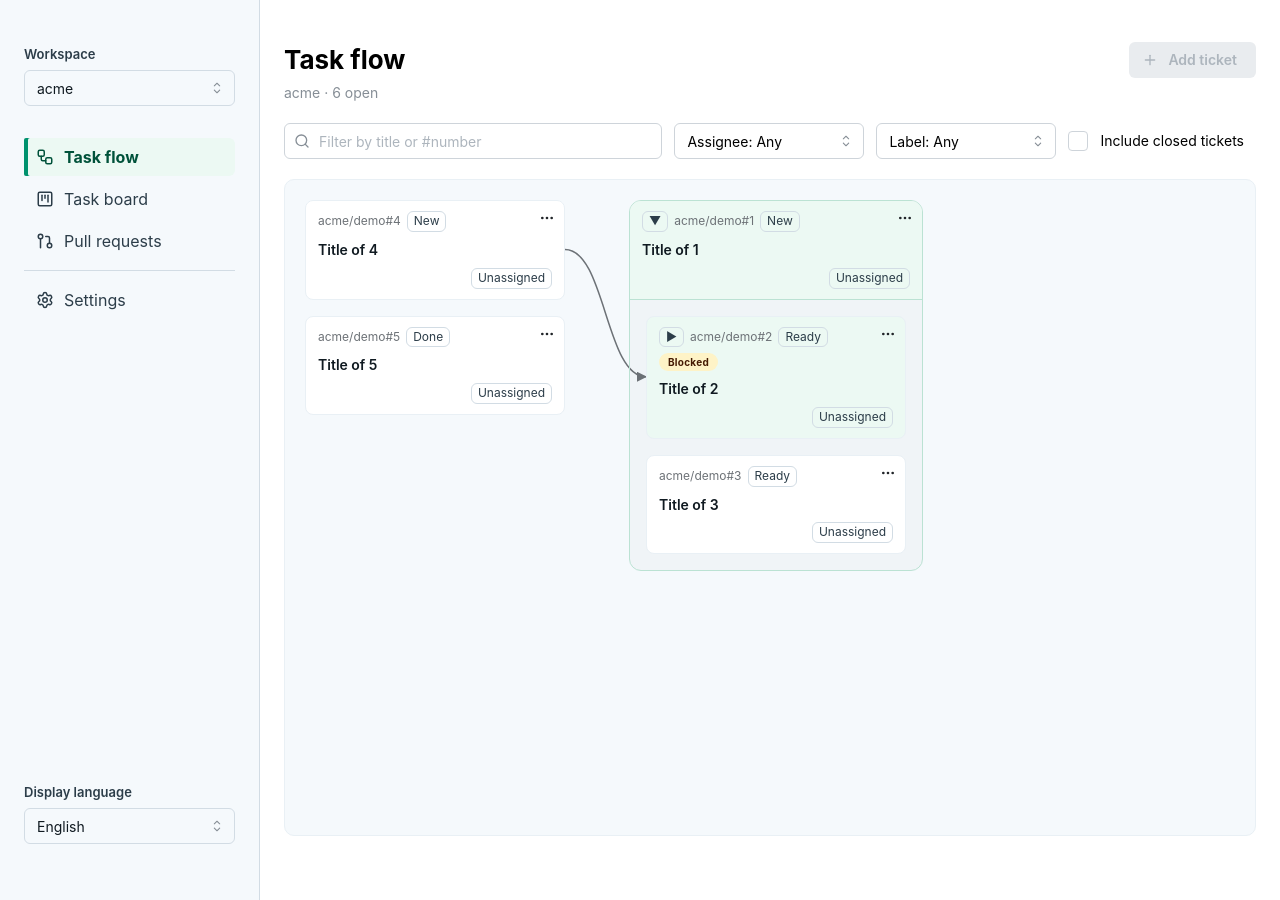
Test case: relations › reveals a matching grandchild, permits folding, and restores saved expansion (true)
Type "Title of 6" into the field named "Text".
click(473, 141); type("Title of 6")  # box [284,123,662,159]
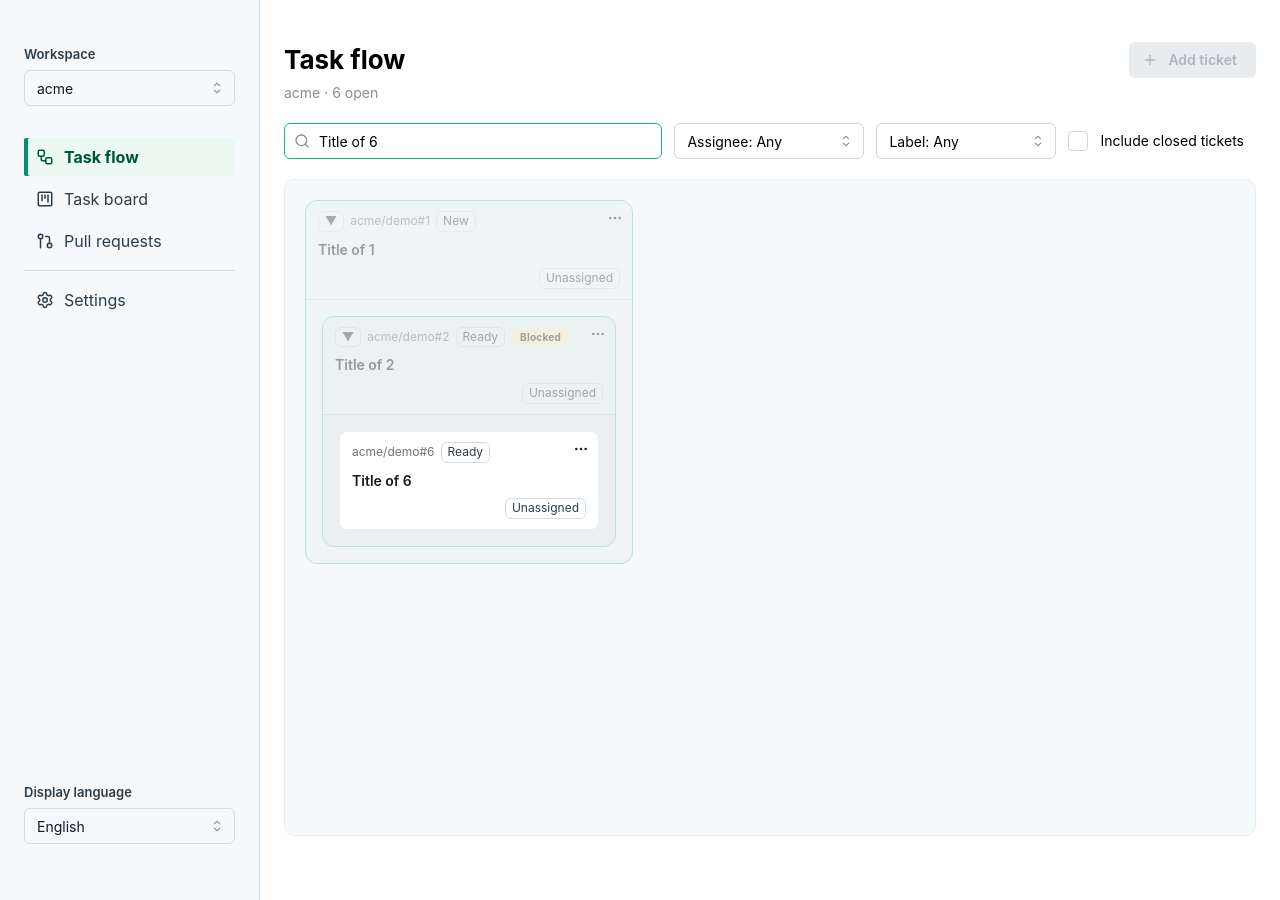
expect the element "▼ acme/demo#1 New Title of 1 Unassigned" has class "dim": met, box [306,201,632,300]
Click the button named "Close child tickets".
click(348, 337)  # box [335,327,361,347]
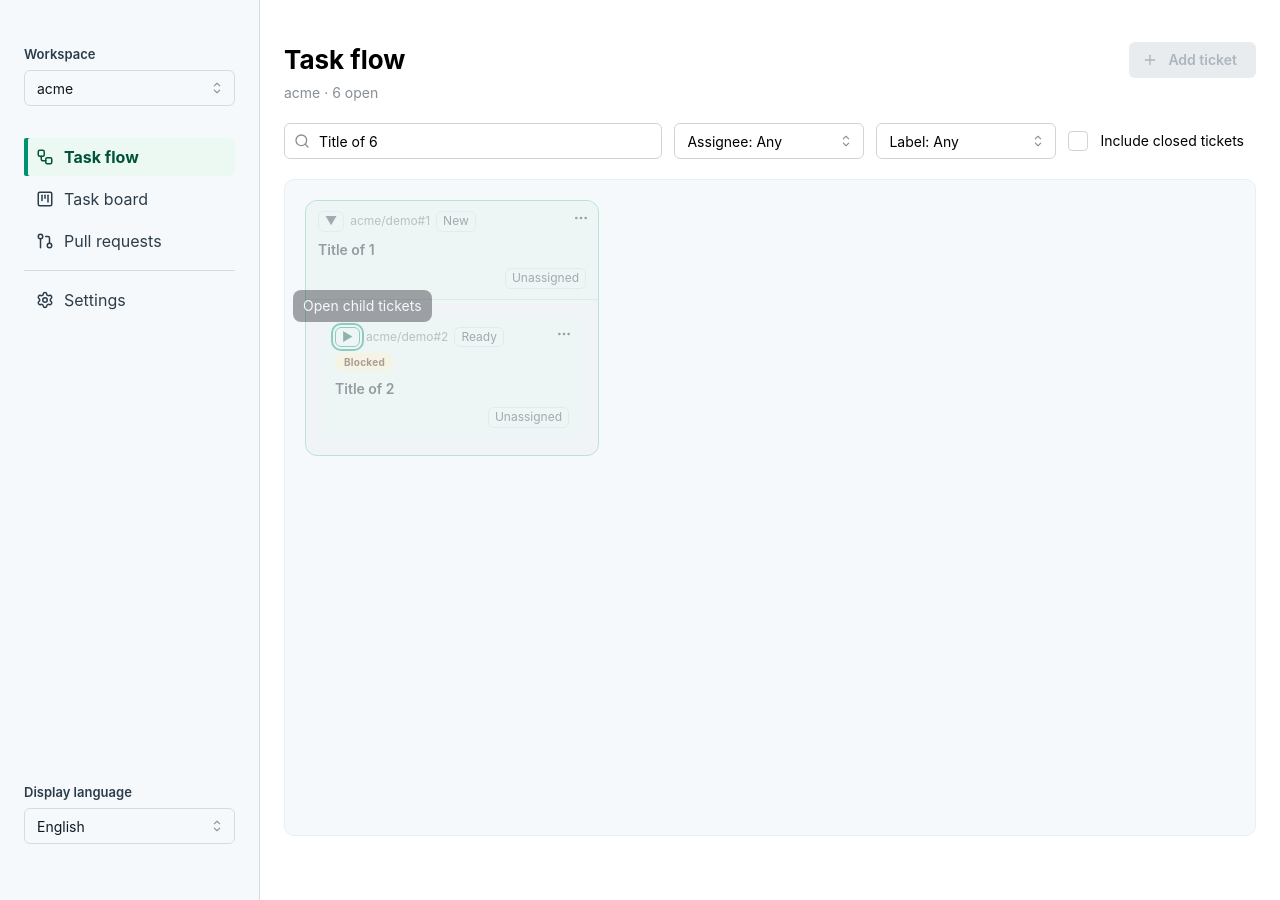
expect the link "acme/demo#6 " is gone: met
Click the button named "Open child tickets".
click(348, 337)  # box [335,327,360,347]
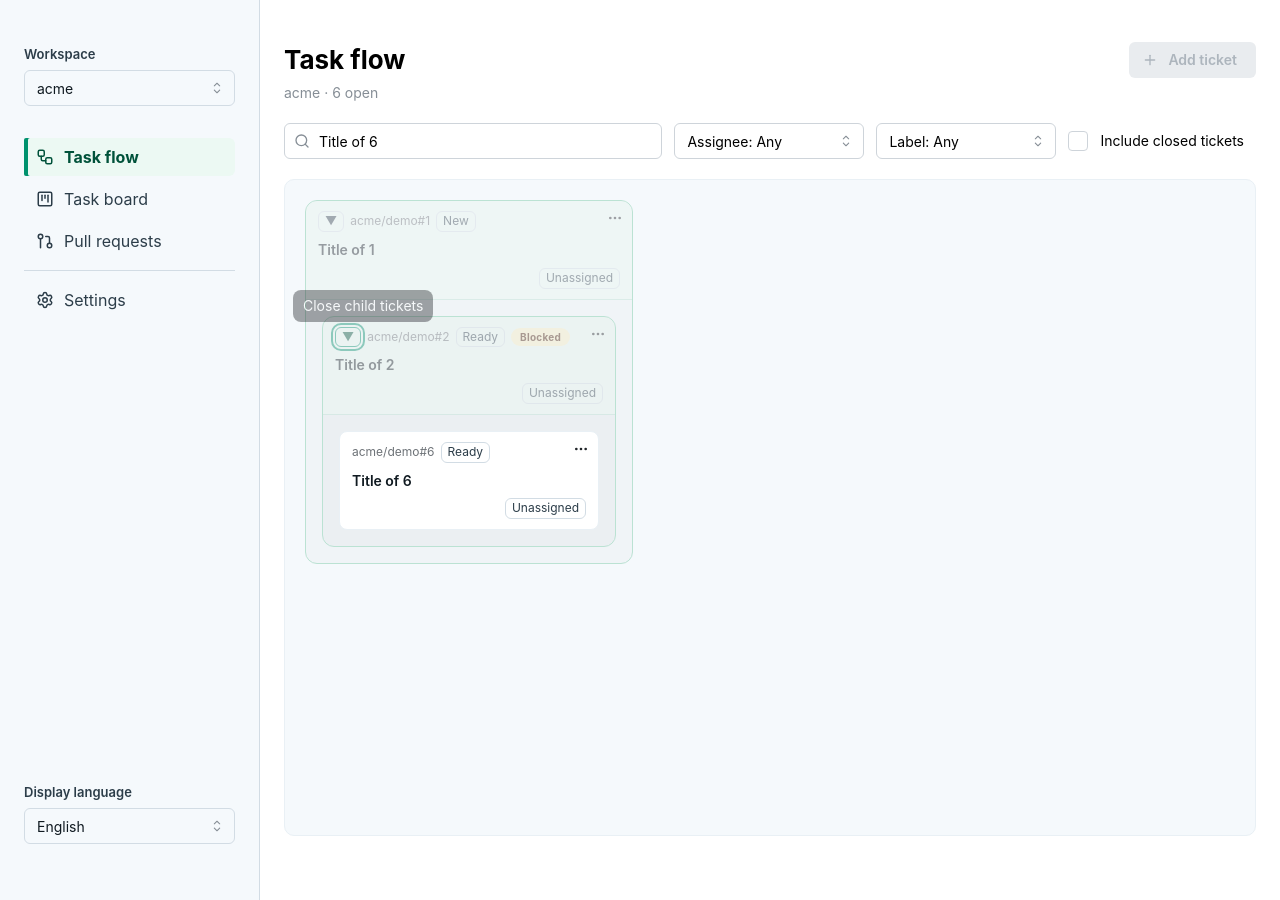
expect the element "acme/demo#6 Ready Title of 6 Unassigned" is shown: met, box [339,431,599,530]
Clear the field named "Text" at (473, 141), box [284,123,662,159]
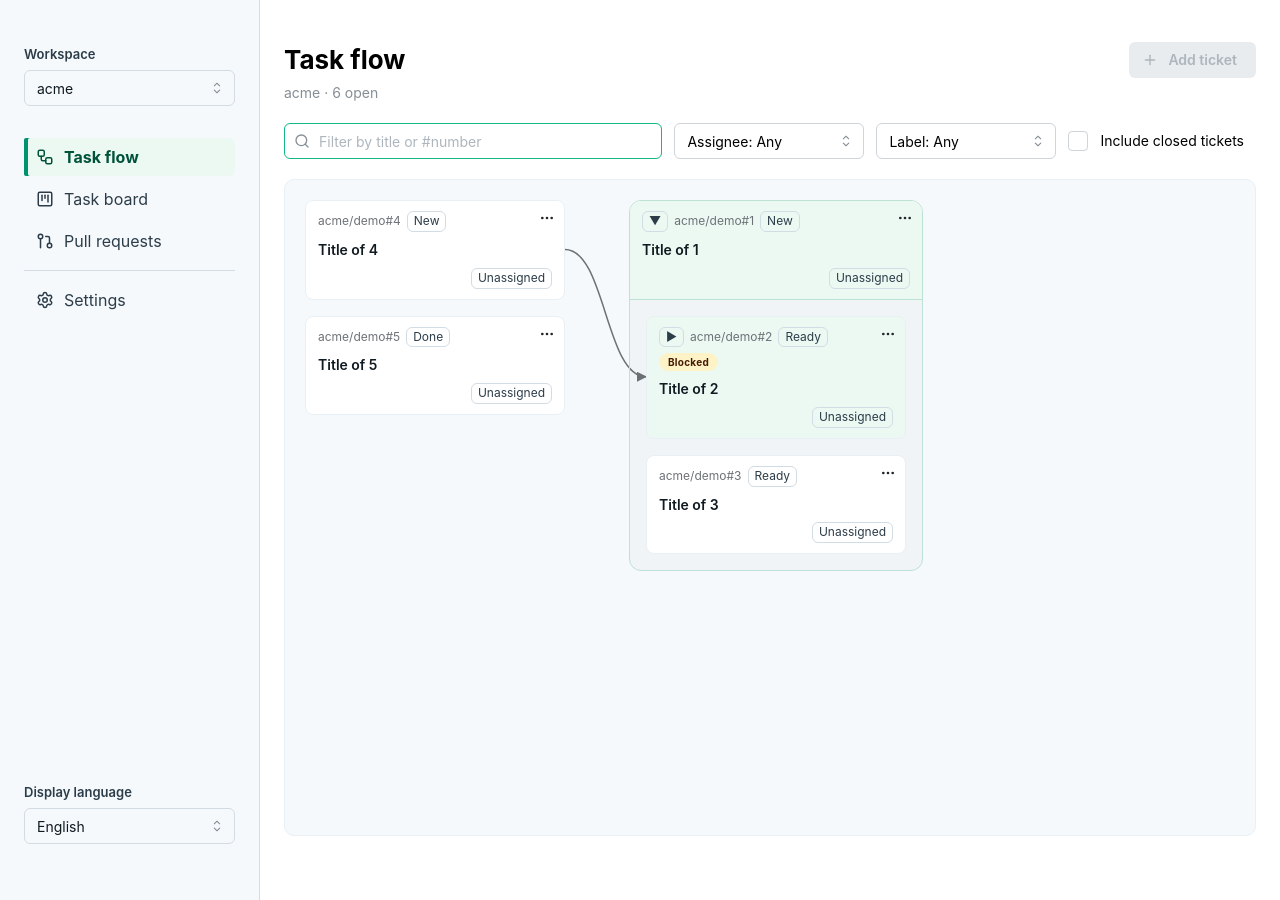
expect the button "▼" is shown: met, box [642,211,668,232]
expect the link "acme/demo#6 " is gone: met
